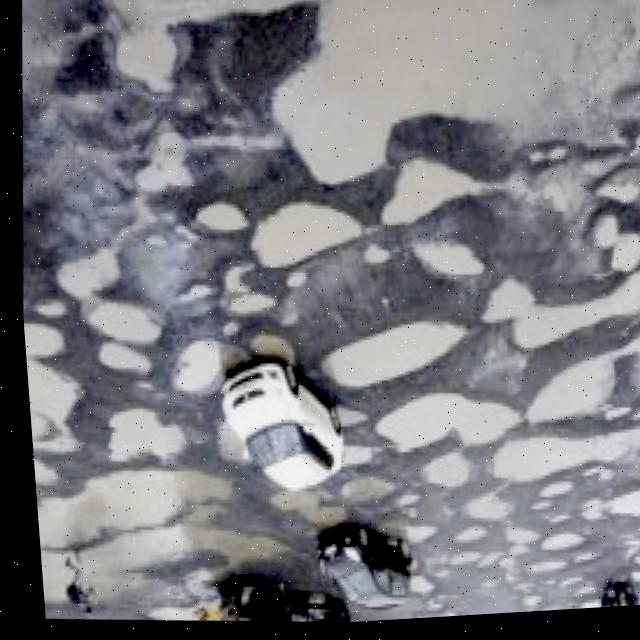Pothole: (251, 55, 402, 205), (27, 456, 234, 564), (468, 257, 640, 379), (313, 312, 466, 405), (364, 393, 522, 468), (371, 144, 487, 243), (480, 423, 627, 500), (239, 199, 366, 284), (515, 355, 625, 445), (100, 21, 183, 111), (91, 406, 185, 474), (21, 353, 79, 461), (395, 237, 487, 298), (46, 246, 124, 312), (166, 335, 242, 402), (74, 297, 167, 348), (130, 131, 195, 198), (256, 488, 338, 536), (411, 451, 475, 500), (327, 475, 391, 518), (593, 483, 640, 540), (86, 339, 150, 380), (189, 200, 246, 246), (19, 319, 63, 368), (451, 496, 509, 533), (597, 236, 640, 285), (242, 333, 294, 371), (171, 272, 217, 313), (528, 531, 580, 564), (375, 523, 429, 553), (357, 239, 392, 284), (222, 293, 276, 322), (582, 217, 620, 258), (592, 186, 640, 215), (20, 297, 65, 326), (26, 453, 58, 493), (216, 263, 247, 299), (329, 407, 362, 439), (574, 468, 608, 499), (529, 483, 569, 508), (521, 558, 563, 581), (494, 529, 530, 553), (441, 530, 479, 551), (442, 553, 472, 576), (278, 271, 303, 298), (388, 493, 413, 517), (520, 505, 548, 523), (624, 558, 640, 582), (631, 460, 640, 489), (636, 518, 640, 556)
